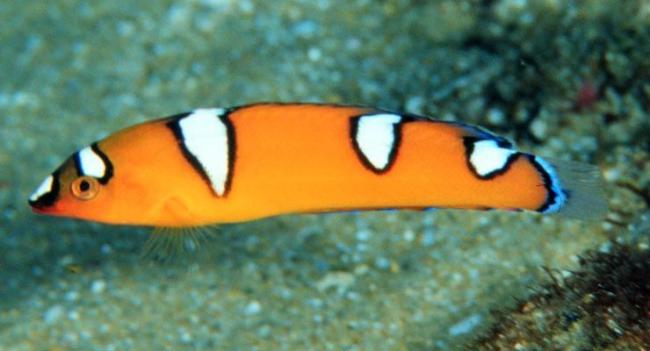fish: (27, 101, 608, 227)
